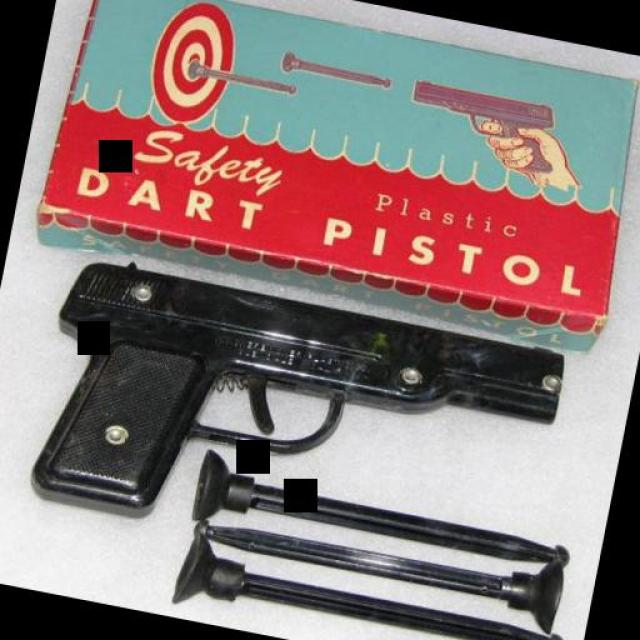gun: (21, 242, 571, 582)
